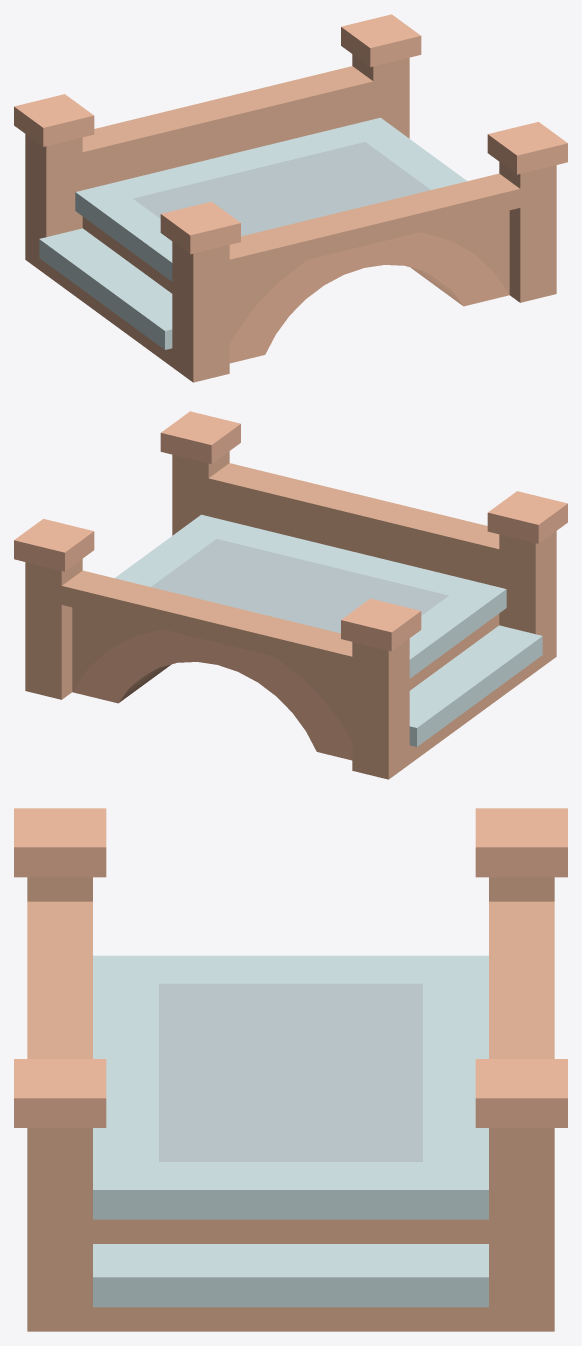
The model's file is bridge_woodRoundNarrow.glb.
3 views of the same model, one above another, from view 1: azimuth 30°, elevation 25°; view 2: azimuth 150°, elevation 25°; view 3: azimuth 270°, elevation 25° (orthographic). The views are drawn at different scales.
Visible parts, largest first — view 1: bridge_woodRoundNarrow; view 2: bridge_woodRoundNarrow; view 3: bridge_woodRoundNarrow.
Part boxes in pixels (box(x1,y1,x2,y2)): bridge_woodRoundNarrow: box(14, 14, 567, 382); bridge_woodRoundNarrow: box(14, 411, 567, 779); bridge_woodRoundNarrow: box(14, 808, 567, 1331).
Size of the model in its own units: 1.04 by 0.4 by 0.84.
Materials: 1 (1 with a texture image).
